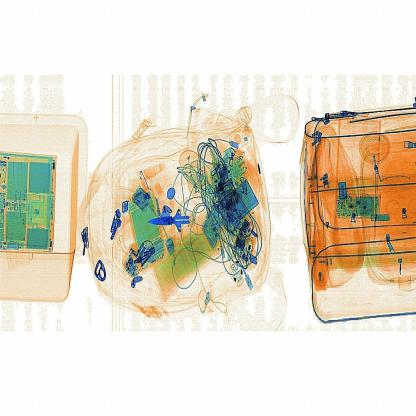gun: (150, 193, 214, 250)
